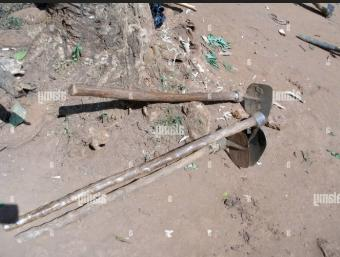HOUE: (4, 79, 307, 244)
